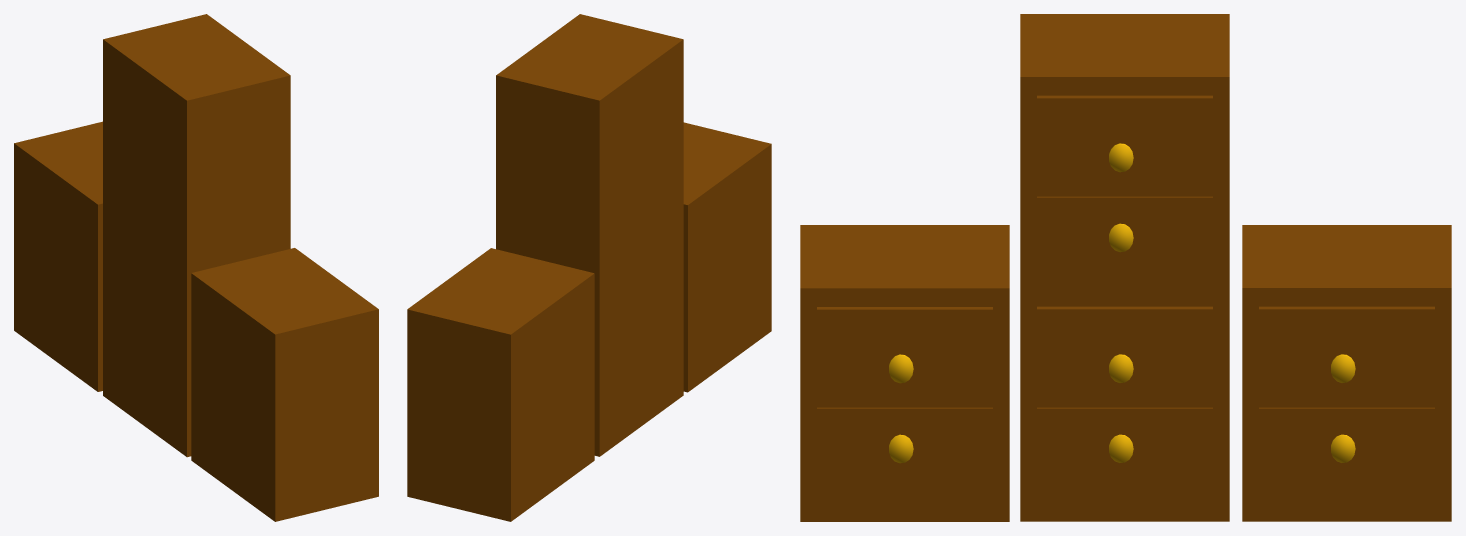
File: pack_drawers.fbx
3 renders of one model, left to right at view 1: azimuth 30°, elevation 25°; view 2: azimuth 150°, elevation 25°; view 3: azimuth 270°, elevation 25°, orthographic. The views are drawn at different scales.
Visible parts, largest first — view 1: Drawer; view 2: Drawer; view 3: Drawer.
Part boxes in pixels (bbox=[...]): Drawer: bbox=[14, 14, 378, 521]; Drawer: bbox=[407, 14, 771, 521]; Drawer: bbox=[800, 14, 1451, 521].
Bounding box in the file's own units: 54.74 × 168 × 223.
